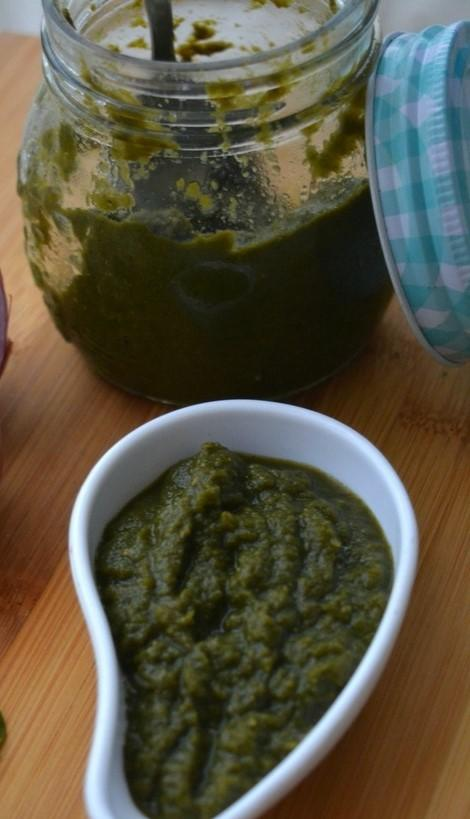GreenChutney: (95, 442, 391, 819), (35, 179, 391, 399)
